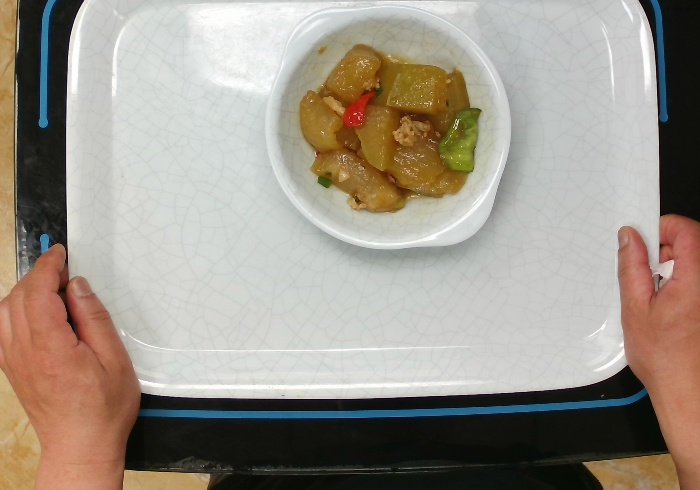JYsf-Shuang_Er_Wan: (258, 3, 518, 255)
